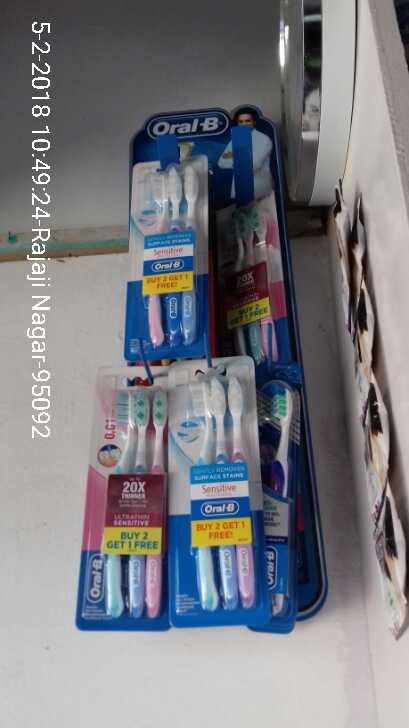oralb: (162, 354, 275, 625), (76, 365, 173, 631), (125, 150, 209, 355)
